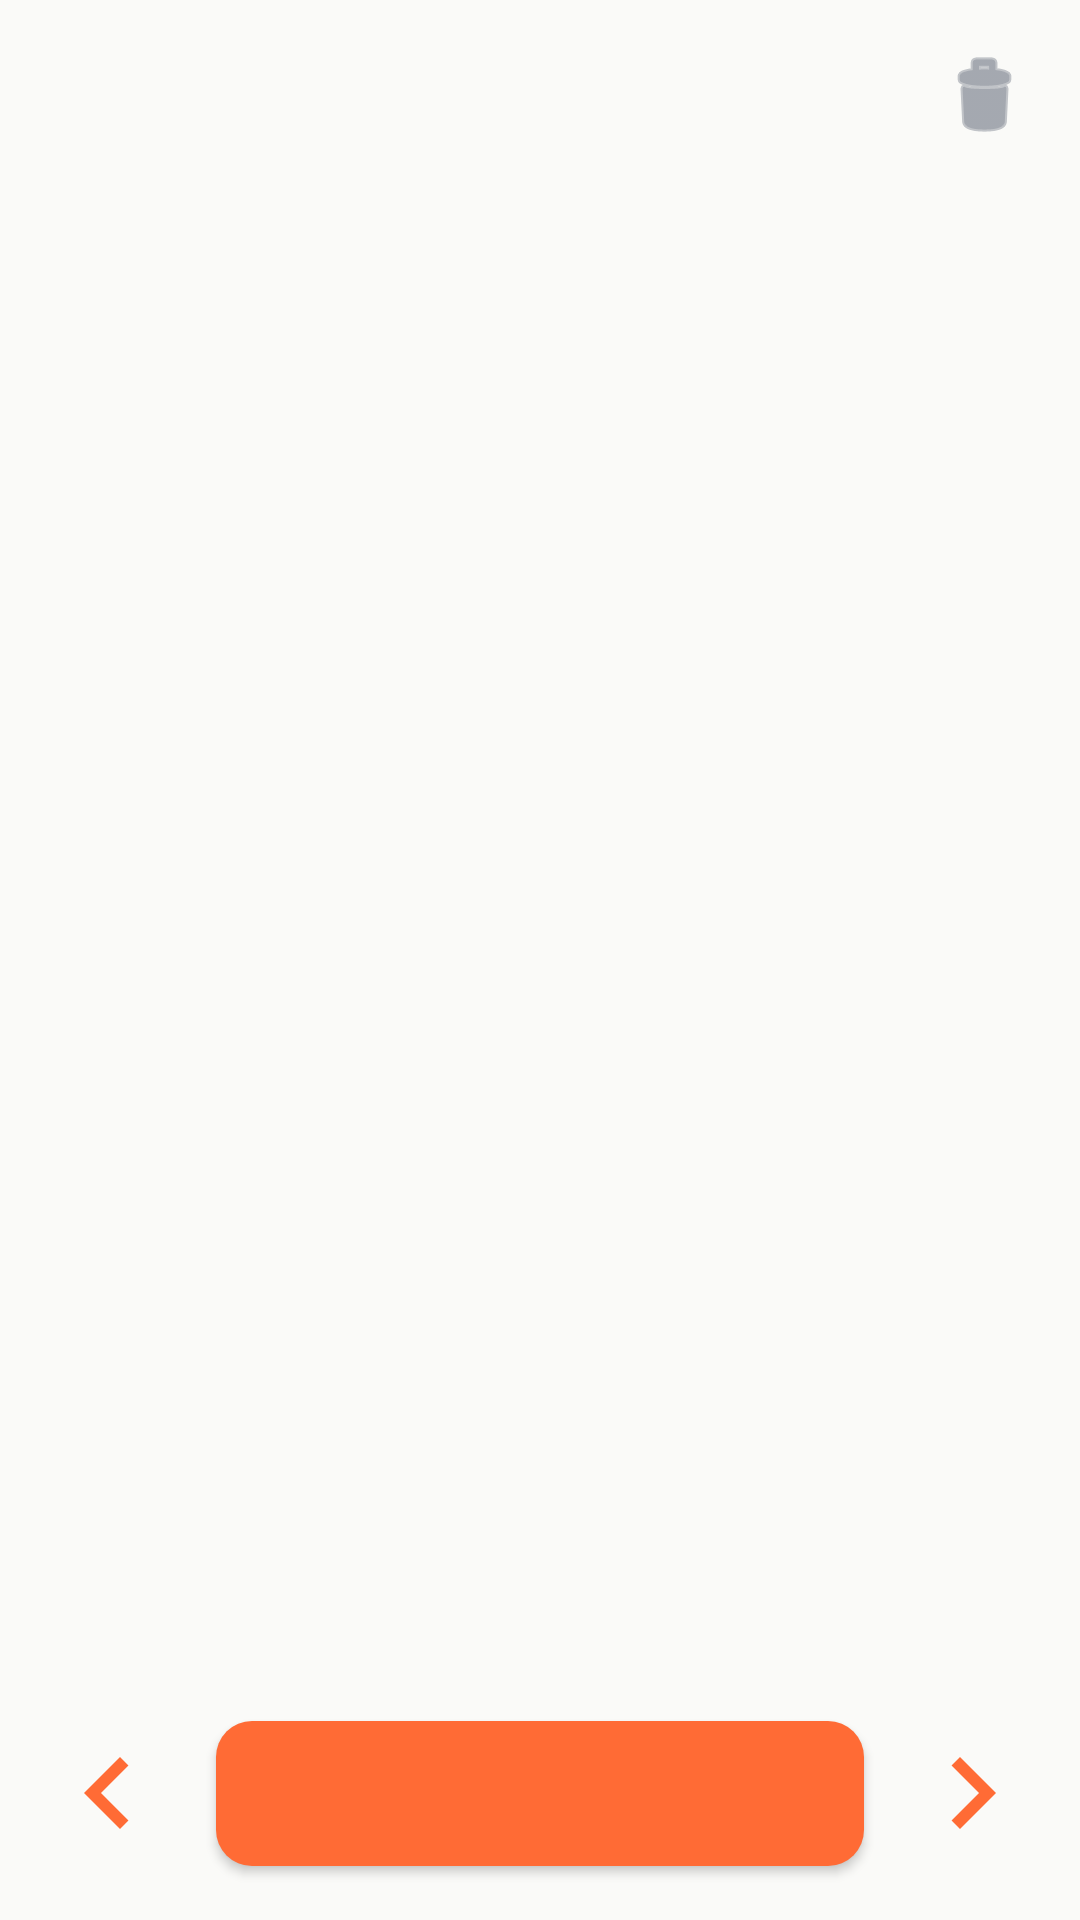

Where icons sit on this 1080px×1920px app screen, as bbox=[x1, y1, x2, y2]:
Next page: bbox=[951, 1757, 996, 1829]
Previous page: bbox=[84, 1757, 129, 1829]
Remove this recipe: bbox=[958, 57, 1011, 132]
